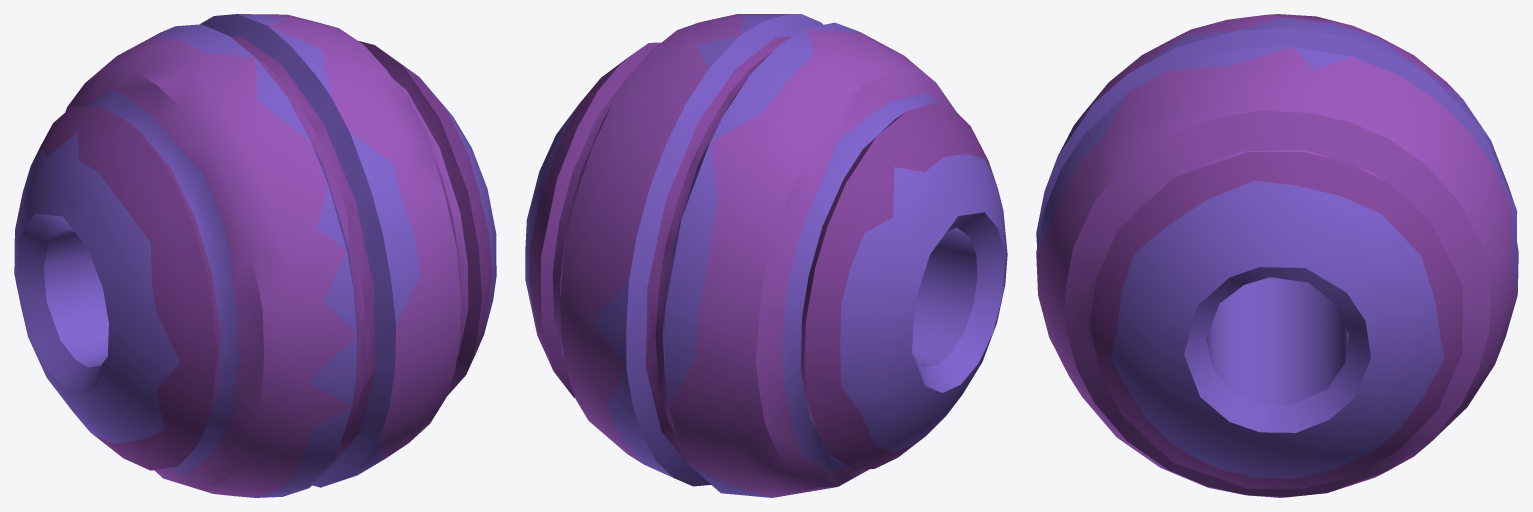
The model's file is planet_terran.repacked.glb.
3 renders of one model, left to right at view 1: azimuth 30°, elevation 25°; view 2: azimuth 150°, elevation 25°; view 3: azimuth 270°, elevation 25°, orthographic.
Parts seen in each view (by area): view 1: Planet_8; view 2: Planet_8; view 3: Planet_8.
Boxes of the visible parts, x1=… form: Planet_8: x1=14, y1=14, x2=496, y2=497; Planet_8: x1=525, y1=14, x2=1007, y2=497; Planet_8: x1=1036, y1=14, x2=1518, y2=497.
Size of the model in its own units: 3.45 by 3.75 by 3.75.
Materials: 1 (1 with a texture image).
